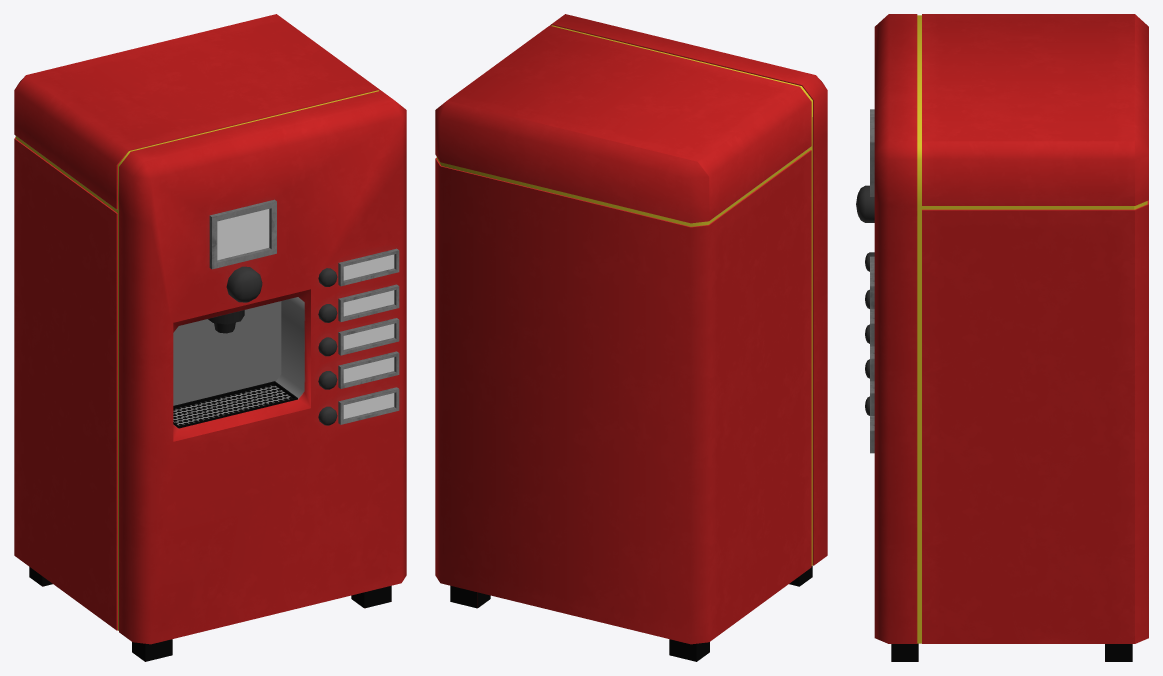
The model's file is SodaMachine.fbx.
3 views of the same model, side by side, from view 1: azimuth 30°, elevation 25°; view 2: azimuth 150°, elevation 25°; view 3: azimuth 270°, elevation 25° (orthographic). The views are drawn at different scales.
Parts seen in each view (by area): view 1: SodaMachine, Displays, DisplayRims, Ice_Button; view 2: SodaMachine; view 3: SodaMachine, DisplayRims, Ice_Button.
Boxes of the visible parts, x1,y1,x2,y2 form: SodaMachine: (14, 14, 406, 661); Displays: (217, 209, 394, 418); DisplayRims: (338, 248, 399, 424); Ice_Button: (226, 266, 262, 302); SodaMachine: (435, 14, 827, 661); SodaMachine: (870, 14, 1148, 661); DisplayRims: (870, 256, 874, 453); Ice_Button: (856, 185, 874, 222).
Bounding box in the file's own units: 120 × 210 × 107.
